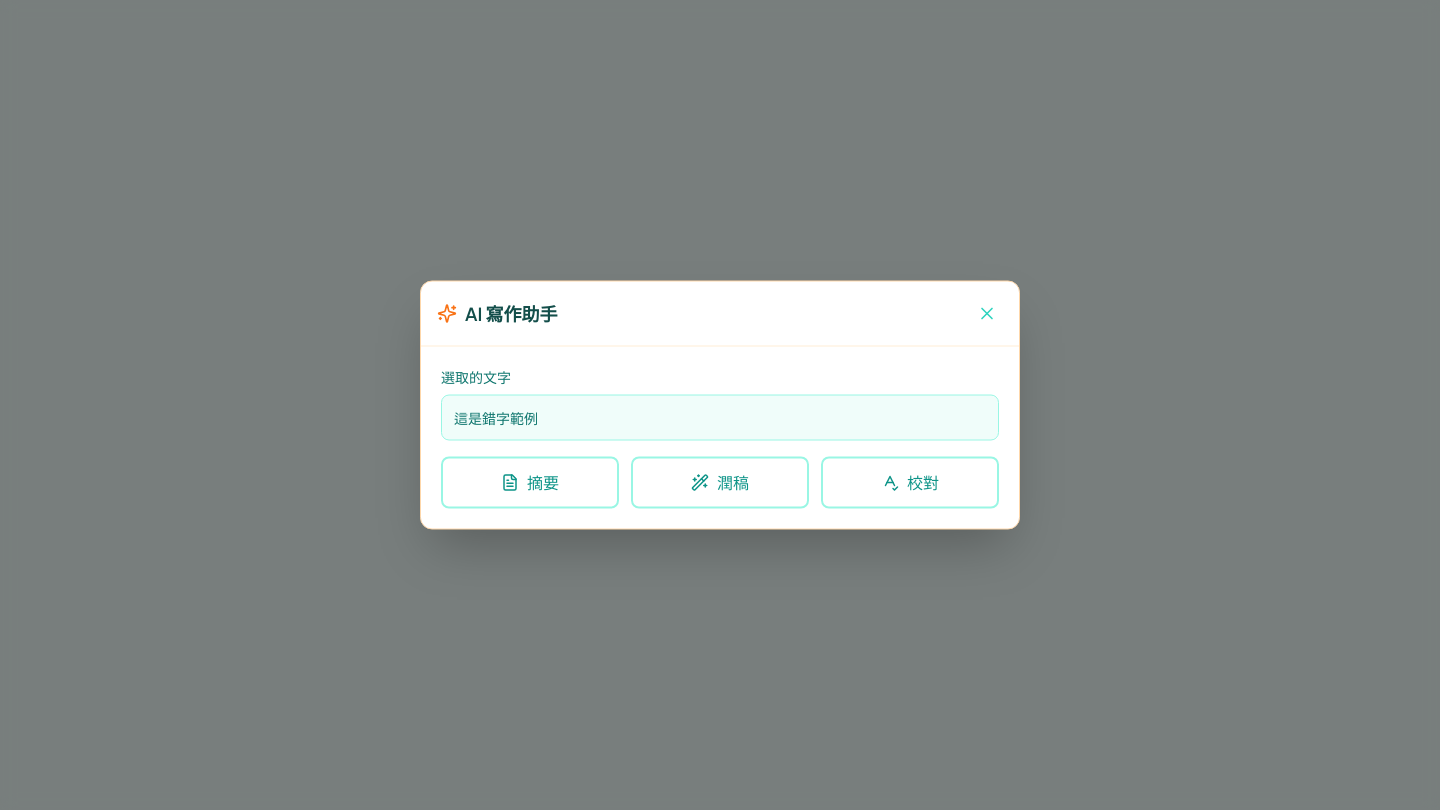
Test: AIDialog › should render proofread issues with score
Click the button "校對" at [910, 482], box left=821, top=456, right=999, bottom=508
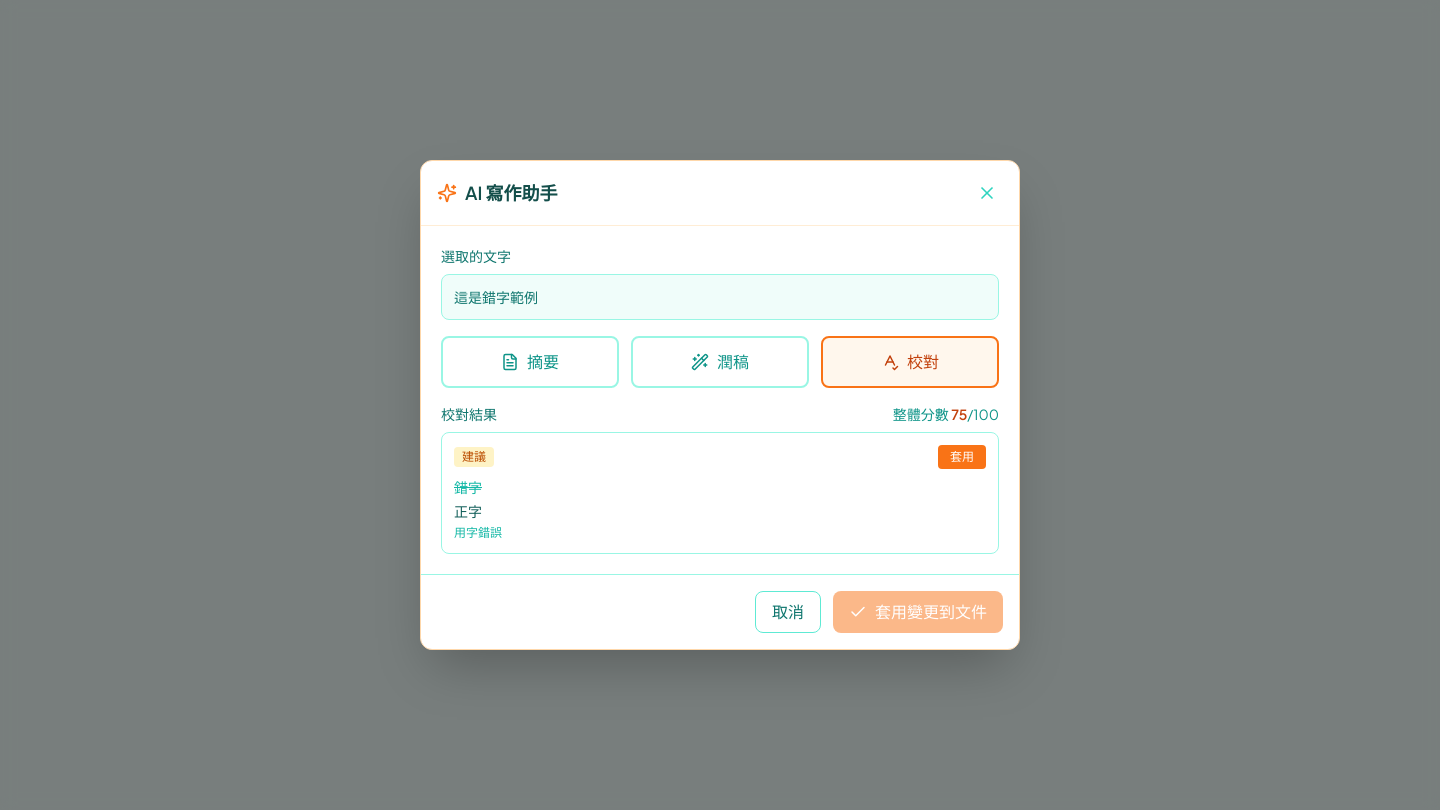
Expected: the text "校對結果" is shown, left=441, top=404, right=497, bottom=424
Expected: the text "75" is shown, left=951, top=405, right=967, bottom=423
Expected: the text "正字" is shown, left=454, top=502, right=482, bottom=520
